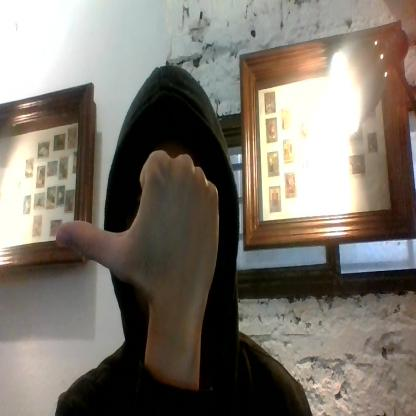right: (56, 147, 219, 305)
